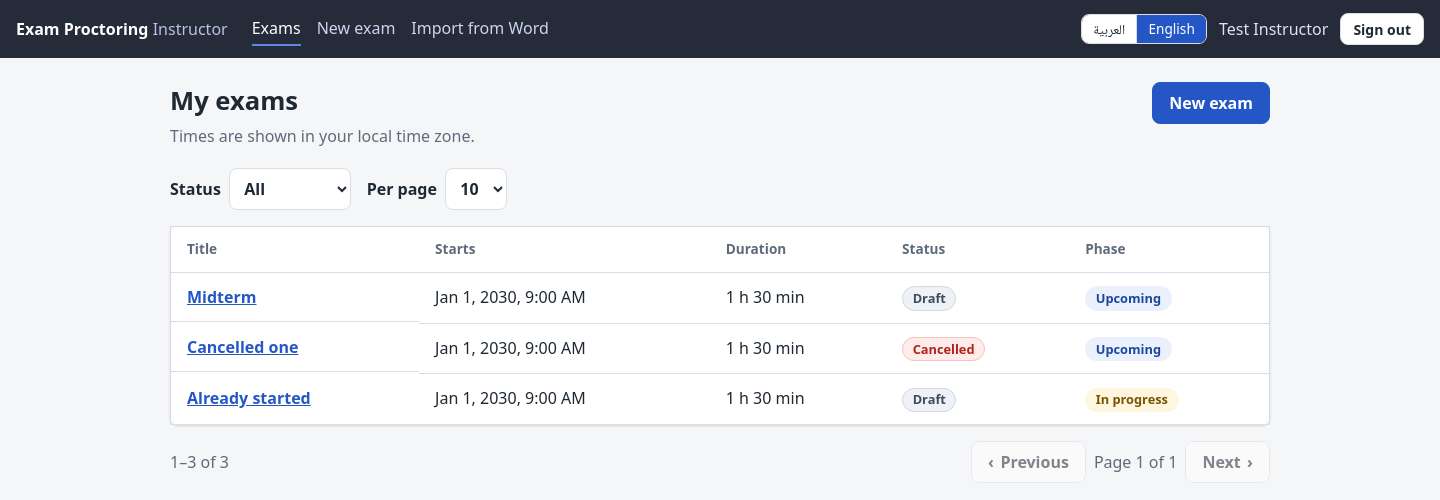
Test: ImportQuestionsPage: choosing the file › is reachable from the header and starts with the upload step and a template download
Click the link "Import from Word" at (480, 29), box 411,12 -> 549,46
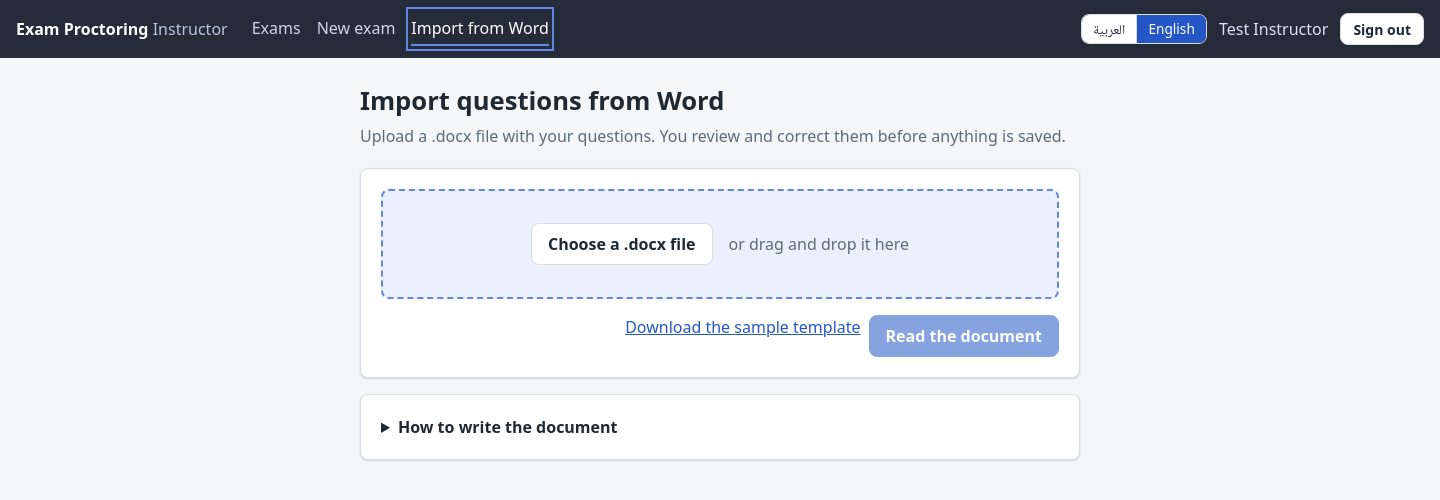
Now the heading "Import questions from Word" is shown, box 360,83 -> 724,118
Now the button "Read the document" is disabled, box 869,315 -> 1059,357
